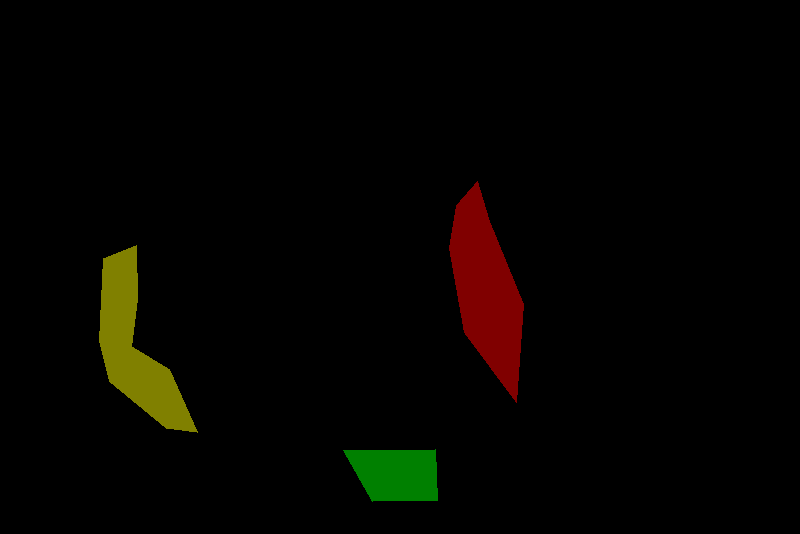fire: (99, 245, 197, 432), (449, 181, 523, 402), (343, 449, 437, 501)
